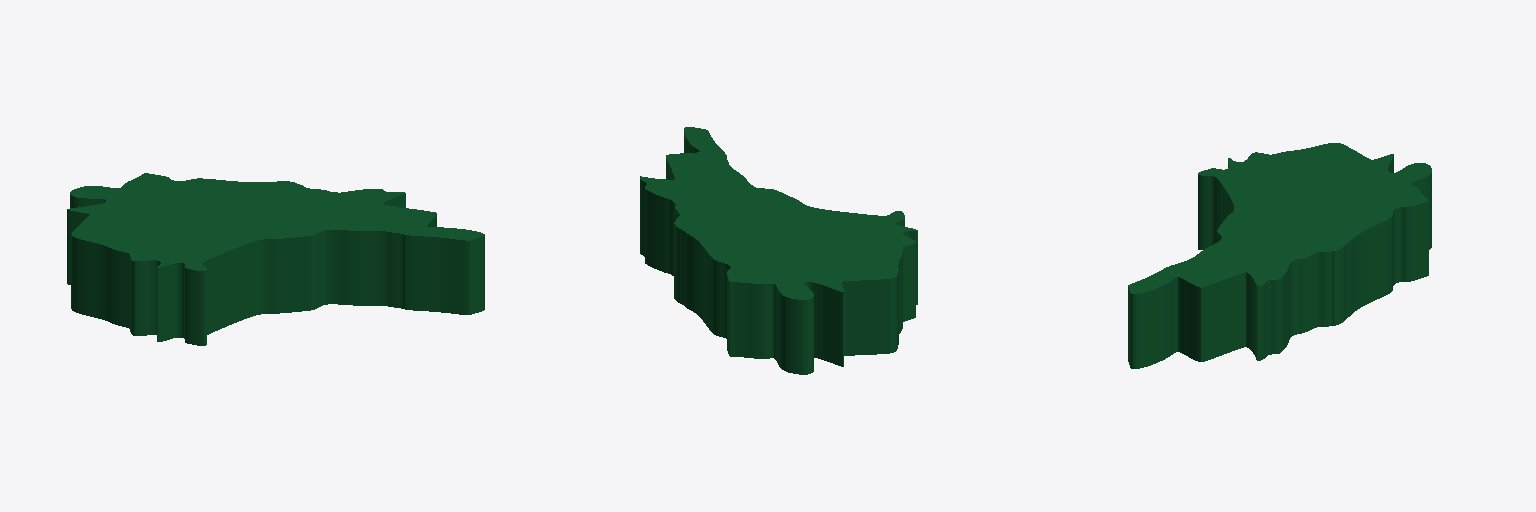
3 renders of one model, left to right at view 1: azimuth 30°, elevation 25°; view 2: azimuth 150°, elevation 25°; view 3: azimuth 270°, elevation 25°, orthographic.
Parts seen in each view (by area): view 1: Curve.036_path4254; view 2: Curve.036_path4254; view 3: Curve.036_path4254.
Part boxes in pixels (left/top/right/bottom): Curve.036_path4254: left=67, top=173, right=484, bottom=345; Curve.036_path4254: left=640, top=127, right=917, bottom=374; Curve.036_path4254: left=1128, top=143, right=1431, bottom=368.
Size of the model in its own units: 0.4351 by 0.1 by 0.3687.